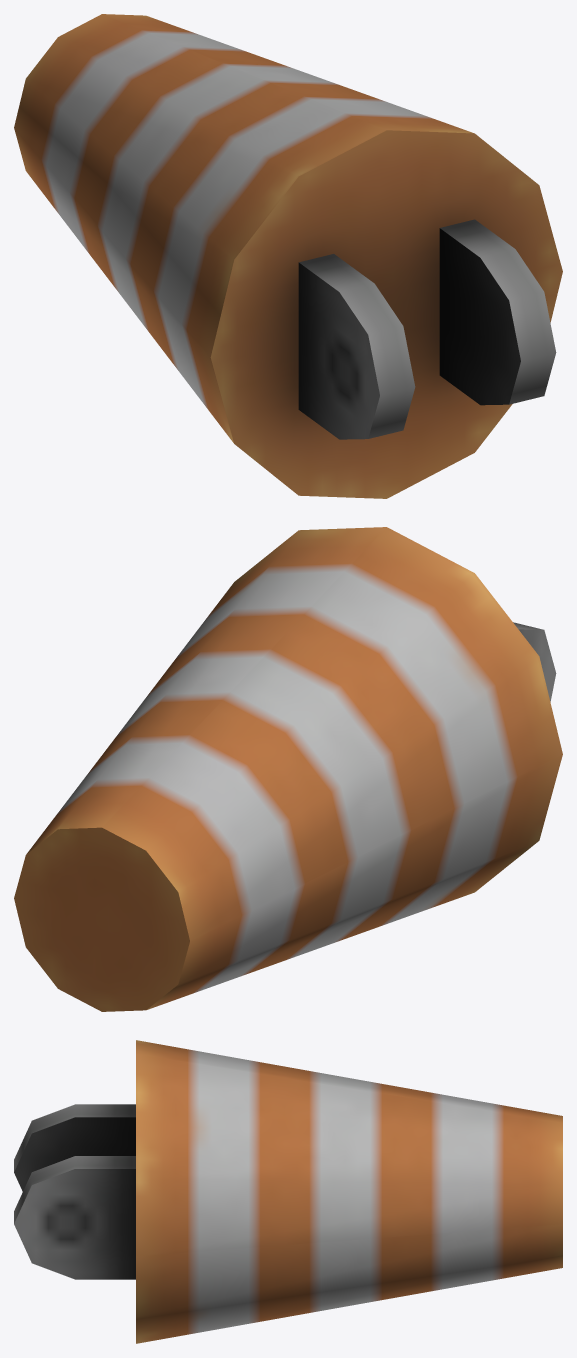
Rendered from lepus_cone_antenna_srf_1.obj.
3 views of the same model, one above another, from view 1: azimuth 30°, elevation 25°; view 2: azimuth 150°, elevation 25°; view 3: azimuth 270°, elevation 25° (orthographic). The views are drawn at different scales.
Visible parts, largest first — view 1: lepus_cone_antenna_srf_1; view 2: lepus_cone_antenna_srf_1; view 3: lepus_cone_antenna_srf_1.
Boxes of the visible parts, box(x1,y1,x2,y2) form: lepus_cone_antenna_srf_1: box(14, 14, 562, 498); lepus_cone_antenna_srf_1: box(14, 527, 562, 1011); lepus_cone_antenna_srf_1: box(14, 1040, 562, 1343).
Bounding box in the file's own units: 0.125 × 0.125 × 0.225.
